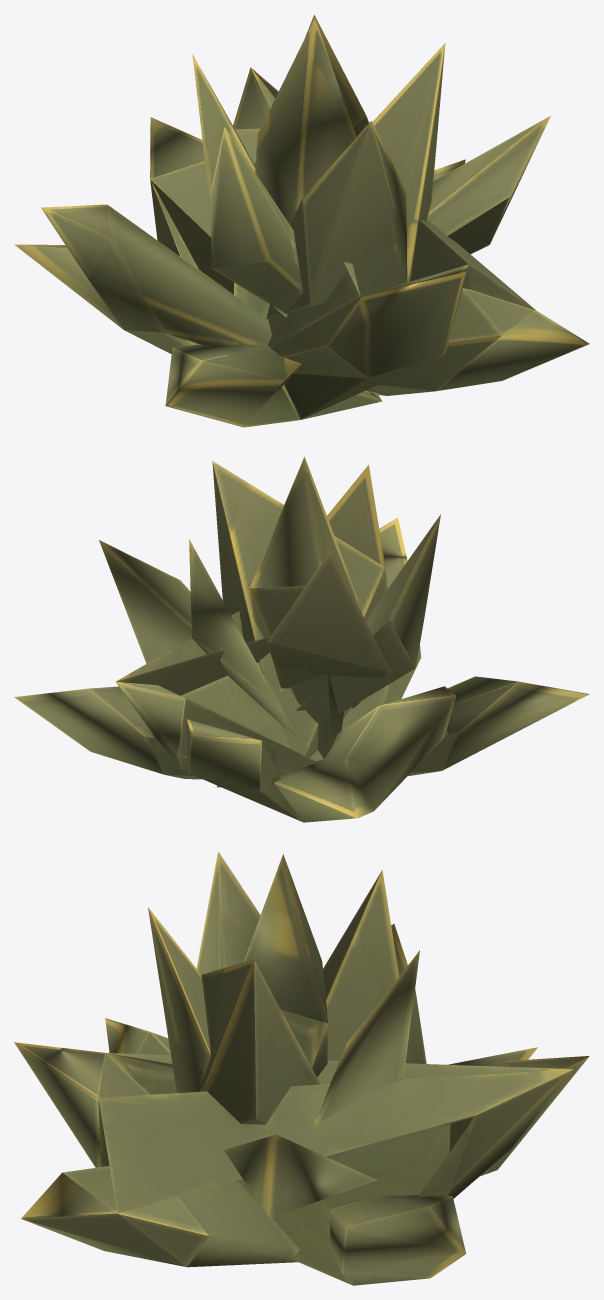
File: Meshy_AI_Golden_Succulent_Lotu_0818060725_texture.fbx
3 views of the same model, one above another, from view 1: azimuth 30°, elevation 25°; view 2: azimuth 150°, elevation 25°; view 3: azimuth 270°, elevation 25° (orthographic). The views are drawn at different scales.
Visible parts, largest first — view 1: mesh_node; view 2: mesh_node; view 3: mesh_node.
Boxes of the visible parts, x1,y1,x2,y2 form: mesh_node: (14, 15, 589, 427); mesh_node: (14, 456, 589, 822); mesh_node: (14, 851, 589, 1285).
Bounding box in the file's own units: 66.02 × 50 × 66.15.
Materials: 1 (1 with a texture image).
